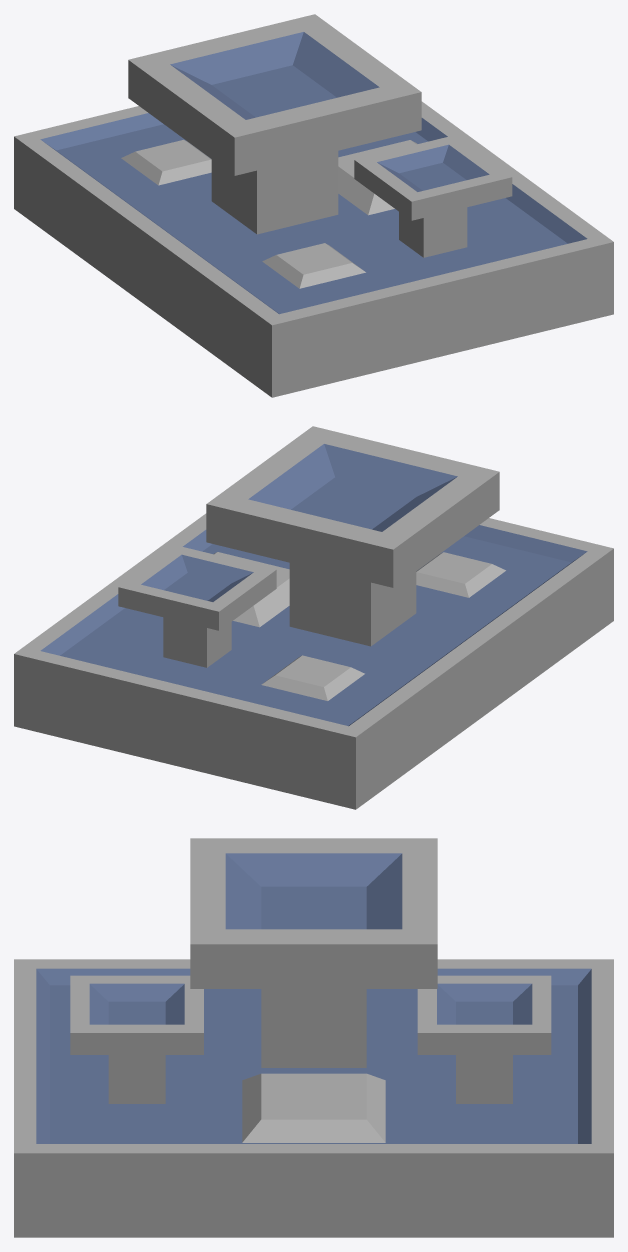
File: fountain7.fbx
3 renders of one model, top to bottom at view 1: azimuth 30°, elevation 25°; view 2: azimuth 150°, elevation 25°; view 3: azimuth 270°, elevation 25°, orthographic. The views are drawn at different scales.
Visible parts, largest first — view 1: Fountain1.005; view 2: Fountain1.005; view 3: Fountain1.005.
Boxes of the visible parts, left/top/right/bottom form: Fountain1.005: left=14, top=14, right=613, bottom=397; Fountain1.005: left=14, top=426, right=613, bottom=809; Fountain1.005: left=14, top=838, right=613, bottom=1237.
Bounding box in the file's own units: 206 × 112 × 269.
